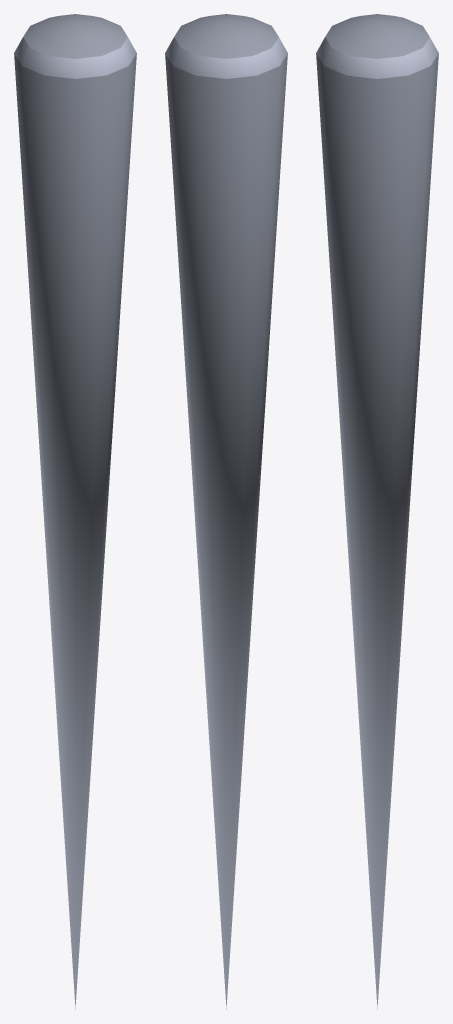
The model's file is Kim.fbx.
3 renders of one model, left to right at view 1: azimuth 30°, elevation 25°; view 2: azimuth 210°, elevation 25°; view 3: azimuth 270°, elevation 25°, orthographic.
Parts seen in each view (by area): view 1: Kim; view 2: Kim; view 3: Kim.
Boxes of the visible parts, x1,y1,x2,y2 form: Kim: (14,14,136,1009); Kim: (165,14,287,1009); Kim: (316,14,438,1009).
Size of the model in its own units: 12.61 by 112 by 12.61.
